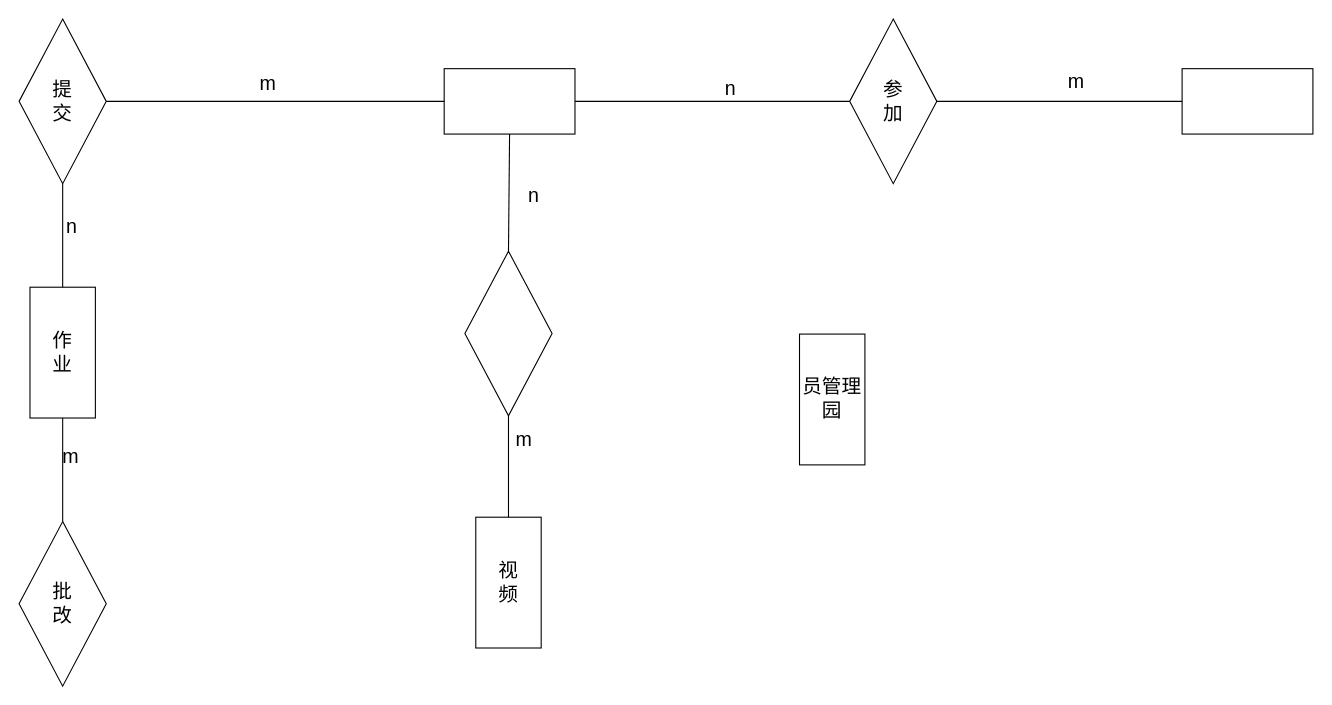
The diagram is 1332 pixels wide and 705 high, and some of its shapes have lost their labels. Here are the shapes that lost their labels. From the top down, the centre of each, then its label:
At (509,101): "学生".
At (1247,101): "考试".
At (508,333): "观 看".
